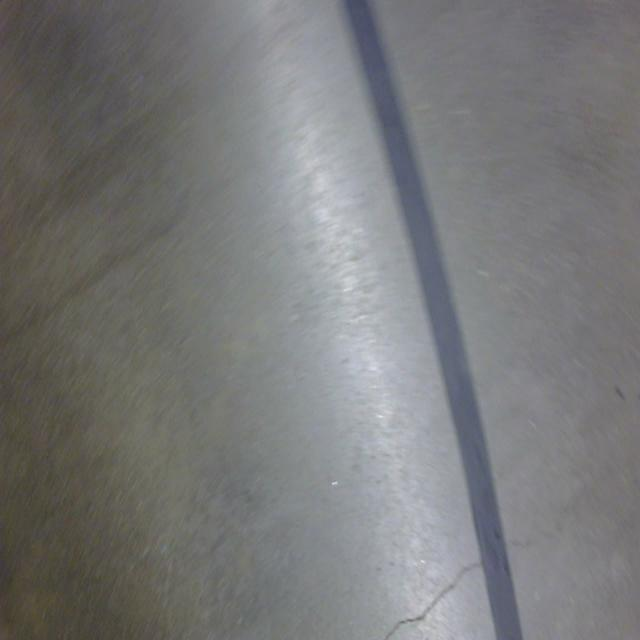tape: (325, 0, 536, 640)
